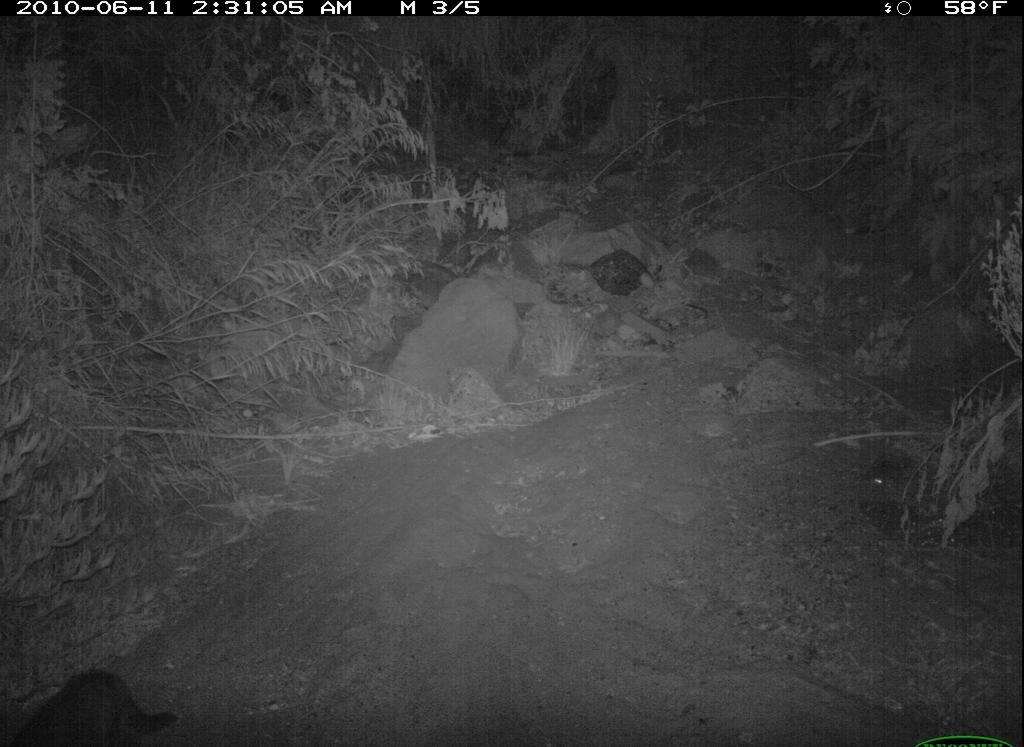cat: (9, 664, 169, 747)
